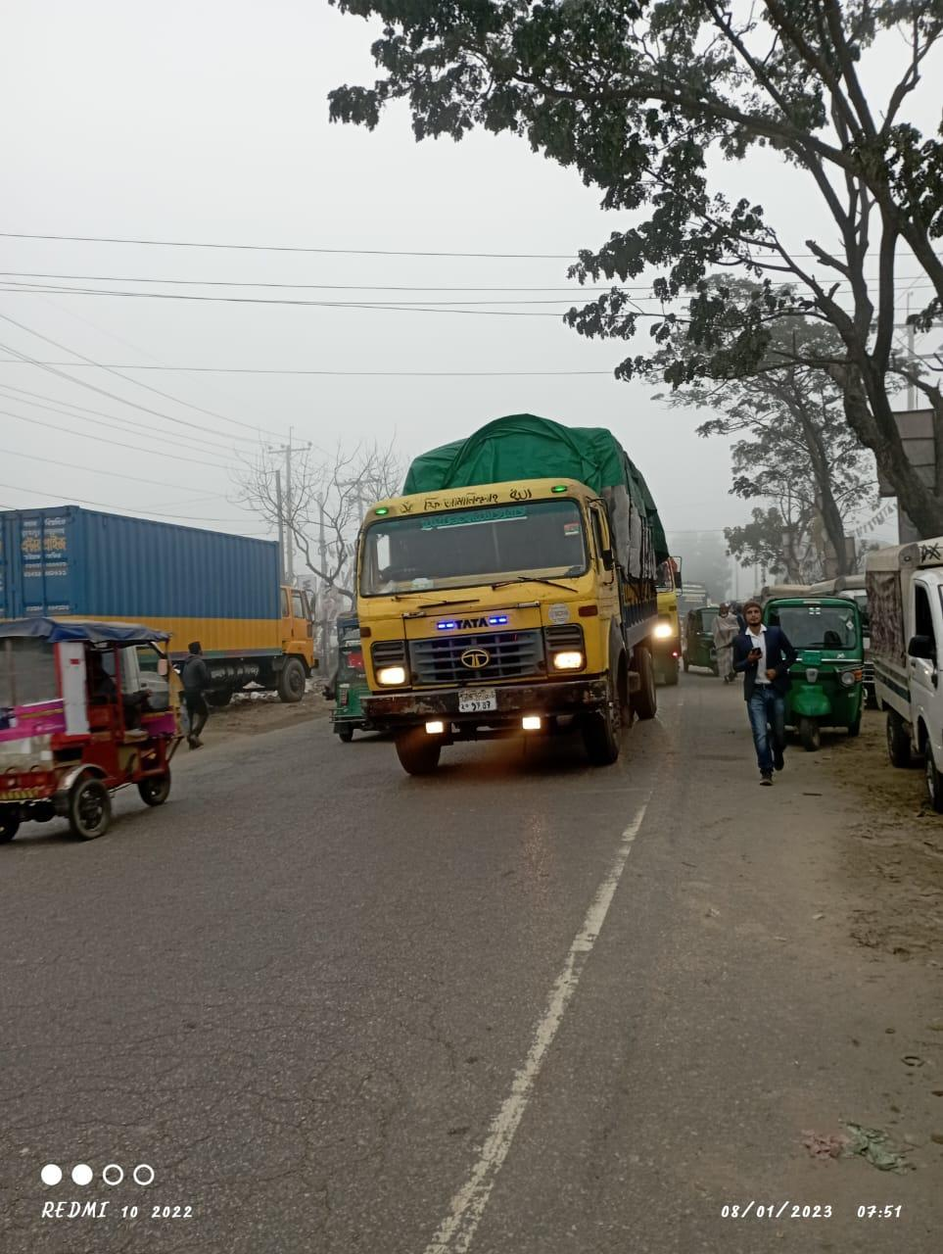Car: (9, 606, 190, 838)
Truck: (329, 412, 664, 775), (2, 497, 321, 698)
